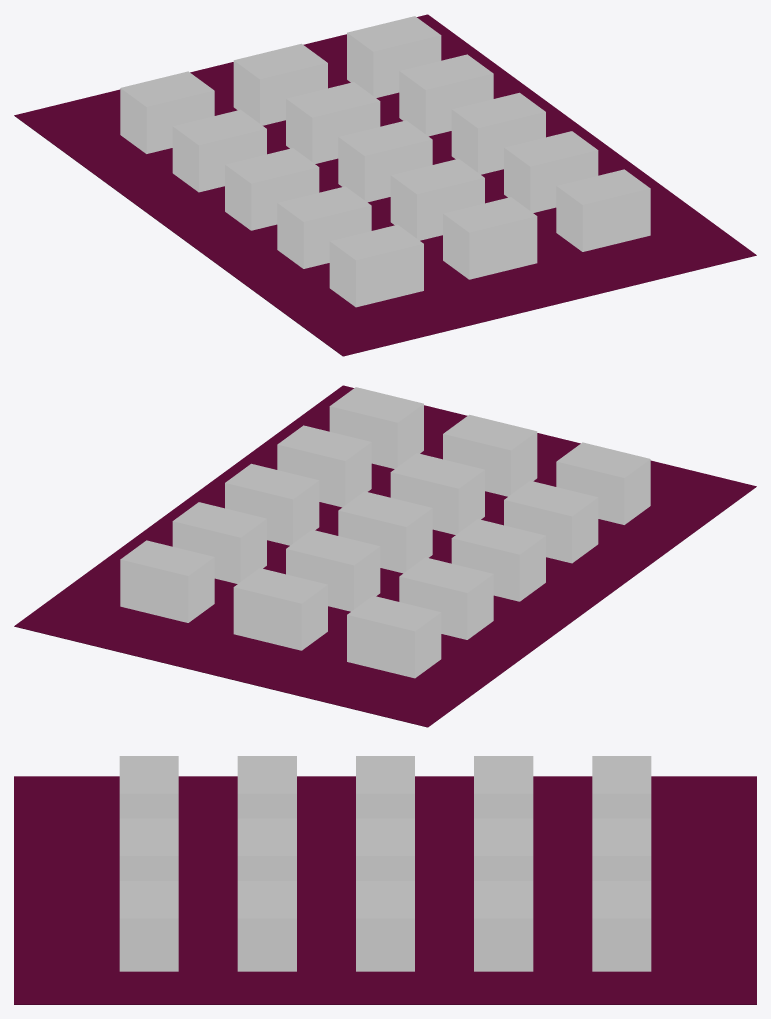
File: njc-l2-hall-v5-30-4.glb
3 views of the same model, one above another, from view 1: azimuth 30°, elevation 25°; view 2: azimuth 150°, elevation 25°; view 3: azimuth 270°, elevation 25° (orthographic). The views are drawn at different scales.
Visible parts, largest first — view 1: Base, H1, H3, H2, H6, H9, H15, H12, H14, H11, H8, H7 (+4 smaller); view 2: Base, H13, H15, H14, H9, H12, H3, H6, H2, H10, H8, H7 (+4 smaller); view 3: Base, H13, H10, H4, H1, H7, H3, H6, H12, H15, H14, H11 (+4 smaller).
Boxes of the visible parts, x1,y1,x2,y2 form: Base: [14, 14, 756, 356]; H1: [556, 169, 650, 251]; H3: [329, 224, 423, 307]; H2: [443, 197, 537, 279]; H6: [277, 186, 371, 268]; H9: [225, 148, 319, 230]; H15: [120, 71, 214, 153]; H12: [172, 109, 266, 192]; H14: [233, 43, 327, 125]; H11: [286, 82, 380, 163]; H8: [338, 120, 432, 202]; H7: [451, 92, 545, 174]; Base: [14, 385, 756, 727]; H13: [120, 540, 214, 622]; H15: [347, 595, 441, 678]; H14: [233, 568, 327, 650]; H9: [451, 519, 545, 601]; H12: [399, 557, 493, 639]; H3: [556, 442, 650, 524]; H6: [504, 480, 598, 563]; H2: [443, 414, 537, 496]; H10: [172, 502, 266, 583]; H8: [338, 491, 432, 573]; H7: [225, 463, 319, 545]; Base: [14, 776, 756, 1004]; H13: [592, 881, 651, 971]; H10: [474, 881, 533, 971]; H4: [237, 881, 296, 971]; H1: [119, 881, 178, 971]; H7: [356, 881, 414, 971]; H3: [119, 756, 178, 818]; H6: [237, 756, 296, 818]; H12: [474, 756, 533, 818]; H15: [592, 756, 651, 818]; H14: [592, 818, 651, 880]; H11: [474, 818, 533, 880].
Size of the model in its own units: 1.83 by 0.2 by 2.51.
